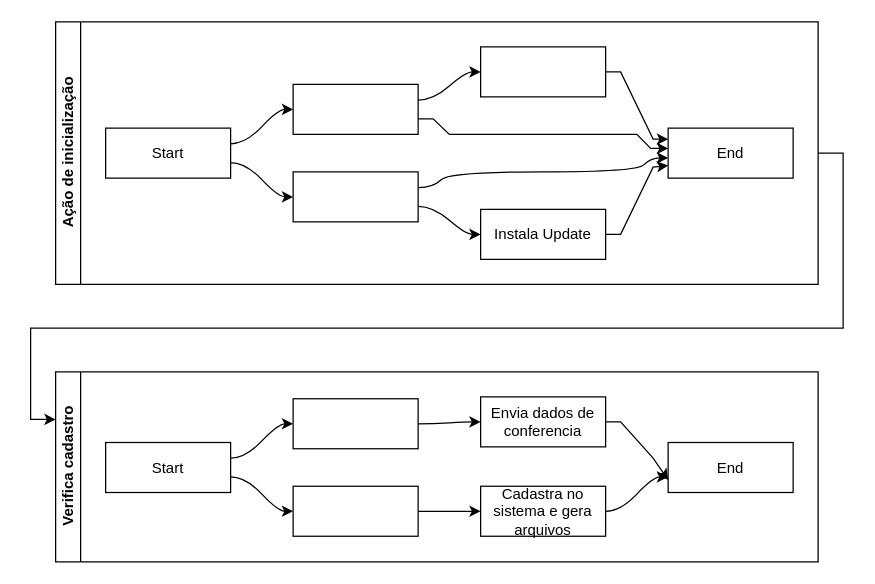
Image size: 875x584. Some labels were removed from this diagram. The shapes that lost their labels are listed below. From the top down, each one's box as (x1, y1, x2, y2) in pixels, then its label:
(479, 46, 606, 97): Instala dependencias
(292, 83, 418, 134): Verifica dependencias
(292, 171, 418, 222): Verifica versão
(292, 398, 418, 449): Já está cadastrado?
(292, 485, 418, 536): Não está cadastrado?
